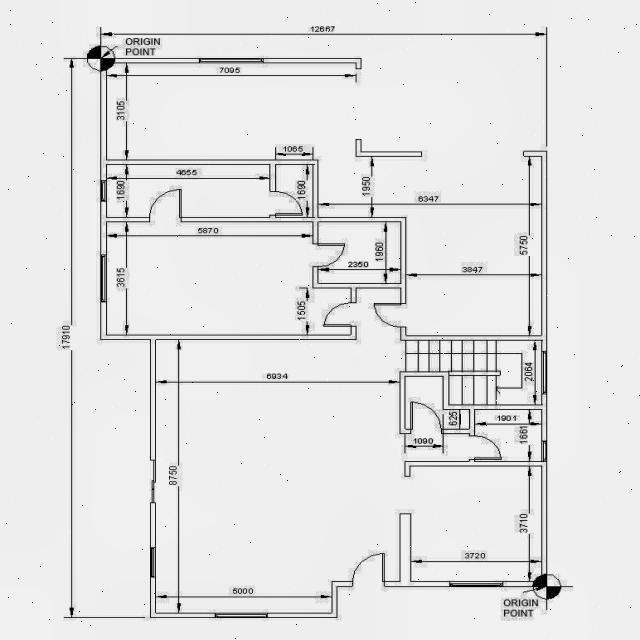Column: (541, 573, 547, 587), (100, 59, 106, 70), (532, 581, 541, 587), (107, 58, 115, 63)
Door: (404, 400, 444, 434), (149, 187, 182, 223), (352, 552, 384, 587), (469, 433, 502, 462), (270, 192, 304, 218), (322, 302, 357, 327), (372, 303, 407, 327), (312, 243, 346, 267)
Sliding Door: (150, 459, 156, 504)
Staircase: (396, 341, 541, 405)
Window: (449, 581, 504, 587), (200, 58, 264, 63), (100, 255, 106, 302), (215, 613, 268, 618), (541, 350, 547, 394), (150, 548, 156, 578), (100, 180, 106, 202), (541, 440, 547, 462)
